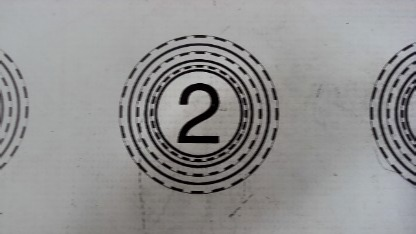2r: (115, 31, 279, 197)
